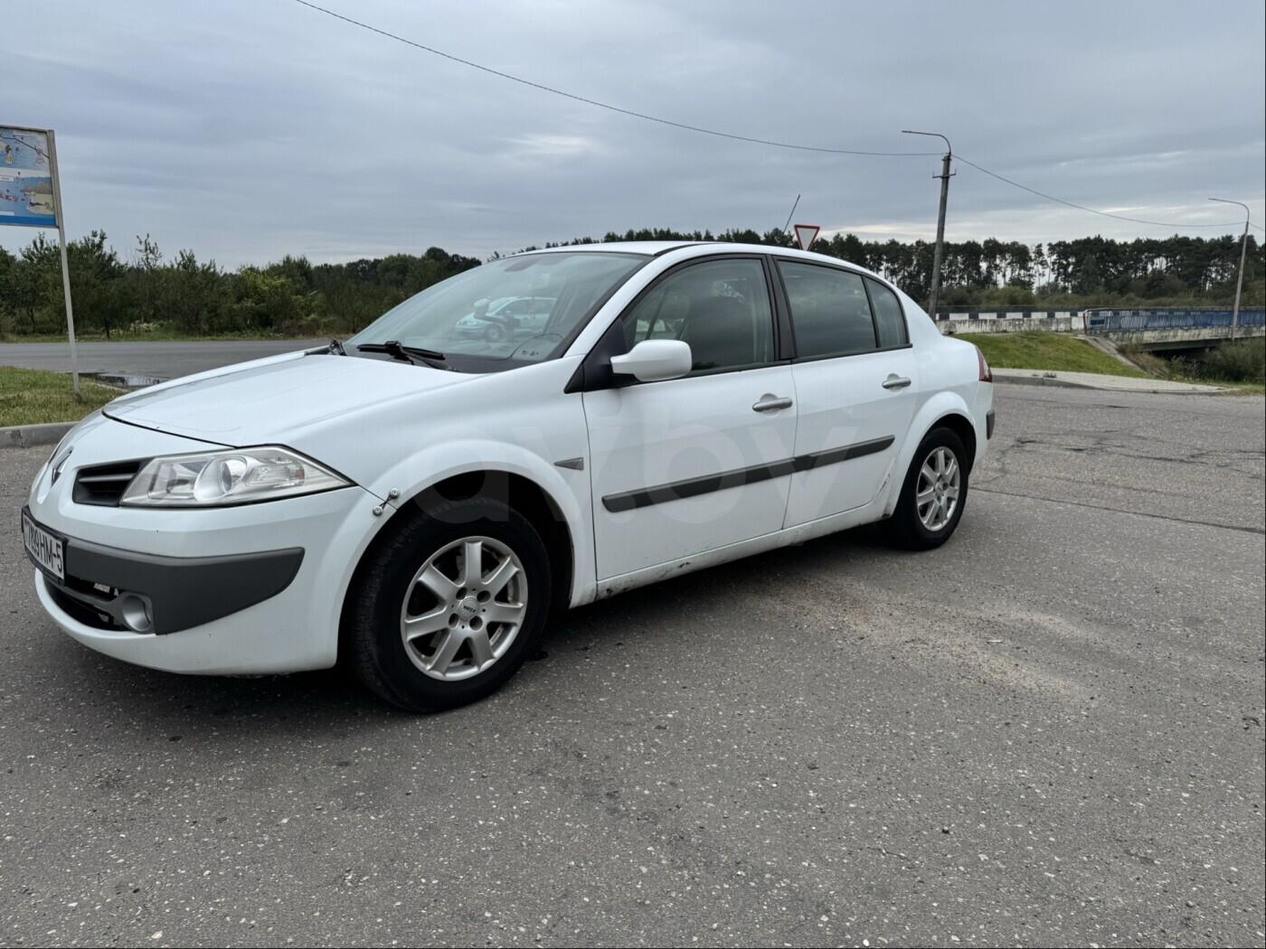Megane_2005-2009: (26, 238, 999, 713)
